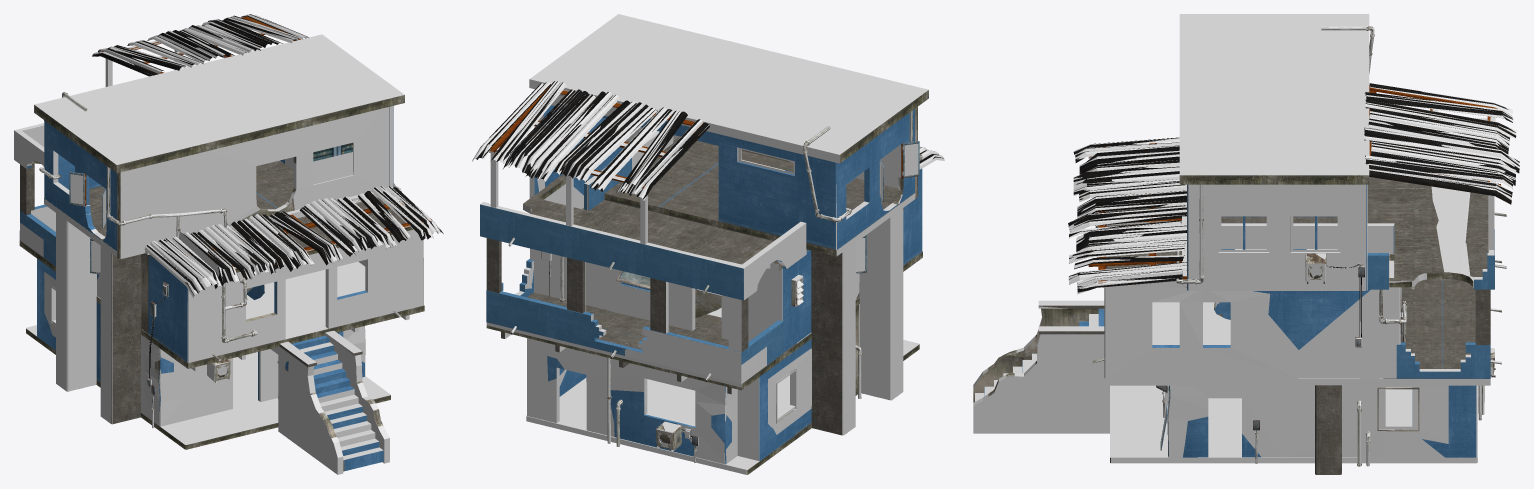
The model's file is hei_prop_heist_pic_02.fbx.
3 renders of one model, left to right at view 1: azimuth 30°, elevation 25°; view 2: azimuth 150°, elevation 25°; view 3: azimuth 270°, elevation 25°, orthographic. The views are drawn at different scales.
Visible parts, largest first — view 1: UTM_Geometry, Object_LOD0; view 2: UTM_Geometry, Object_LOD0; view 3: UTM_Geometry, Object_LOD0.
Boxes of the visible parts, box(x1,y1,x2,y2) form: UTM_Geometry: box(14, 14, 440, 474); Object_LOD0: box(19, 14, 443, 471); UTM_Geometry: box(472, 14, 944, 474); Object_LOD0: box(473, 81, 943, 474); UTM_Geometry: box(973, 14, 1519, 466); Object_LOD0: box(973, 26, 1519, 474).
Size of the model in its own units: 1360 by 1222 by 1875.
